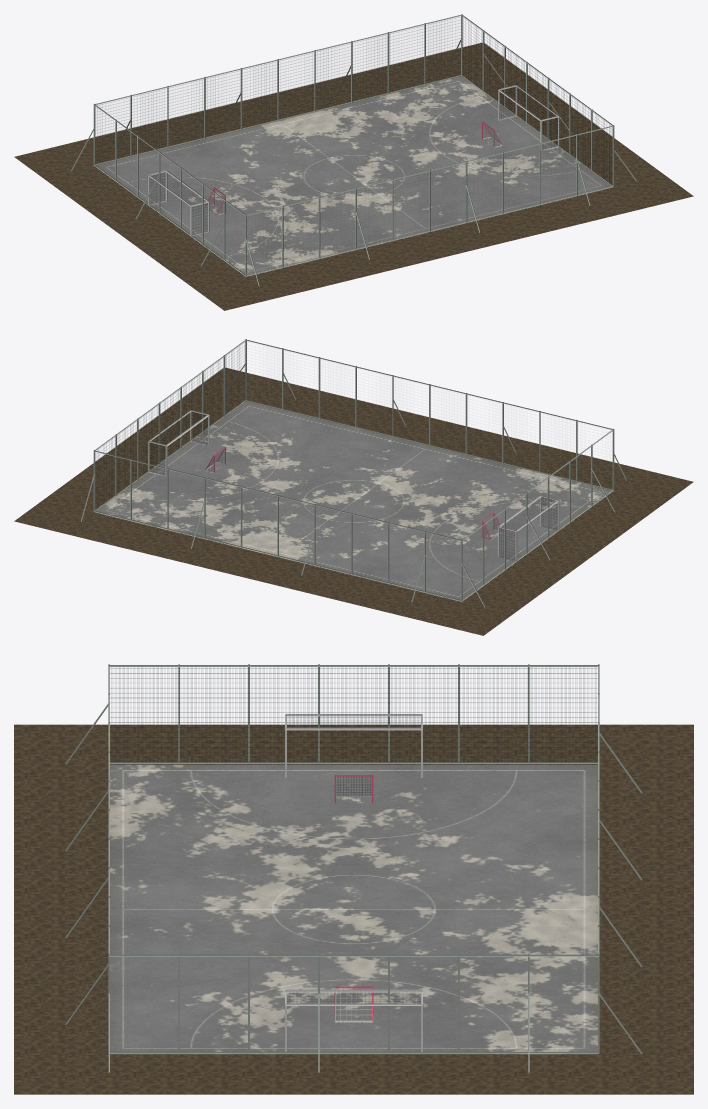
File: boni_platz.glb
3 views of the same model, one above another, from view 1: azimuth 30°, elevation 25°; view 2: azimuth 150°, elevation 25°; view 3: azimuth 270°, elevation 25° (orthographic). The views are drawn at different scales.
Parts seen in each view (by area): view 1: court, apron, fence posts, fence, football goal frames, football goal mesh; view 2: court, apron, fence posts, fence, football goal frames, football goal mesh; view 3: court, apron, fence, fence posts, football goal frames, hockey nets.
Boxes of the visible parts, <box> form: court: <box>95,76,612,276</box>; apron: <box>14,42,693,310</box>; fence posts: <box>71,14,636,286</box>; fence: <box>95,16,612,184</box>; football goal frames: <box>148,85,559,236</box>; football goal mesh: <box>150,86,558,234</box>; court: <box>95,401,612,601</box>; apron: <box>14,367,693,635</box>; fence posts: <box>80,339,627,607</box>; fence: <box>96,341,245,509</box>; football goal frames: <box>148,410,559,561</box>; football goal mesh: <box>149,411,557,559</box>; court: <box>110,764,598,1054</box>; apron: <box>14,724,693,1094</box>; fence: <box>110,667,597,762</box>; fence posts: <box>65,664,642,1072</box>; football goal frames: <box>285,714,422,1051</box>; hockey nets: <box>335,776,372,1021</box>.
Bounding box in the file's own units: 32.2 × 4.06 × 25.
Materials: 10 (6 with a texture image).
